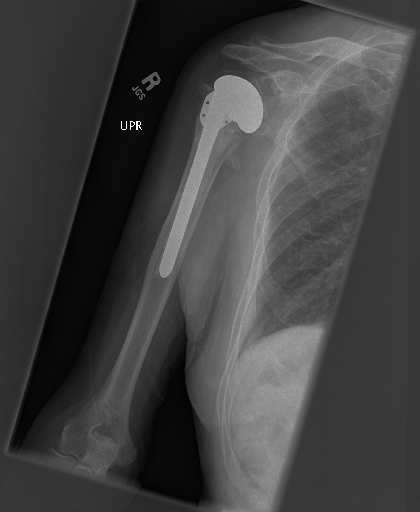implant: (158, 73, 265, 281)
